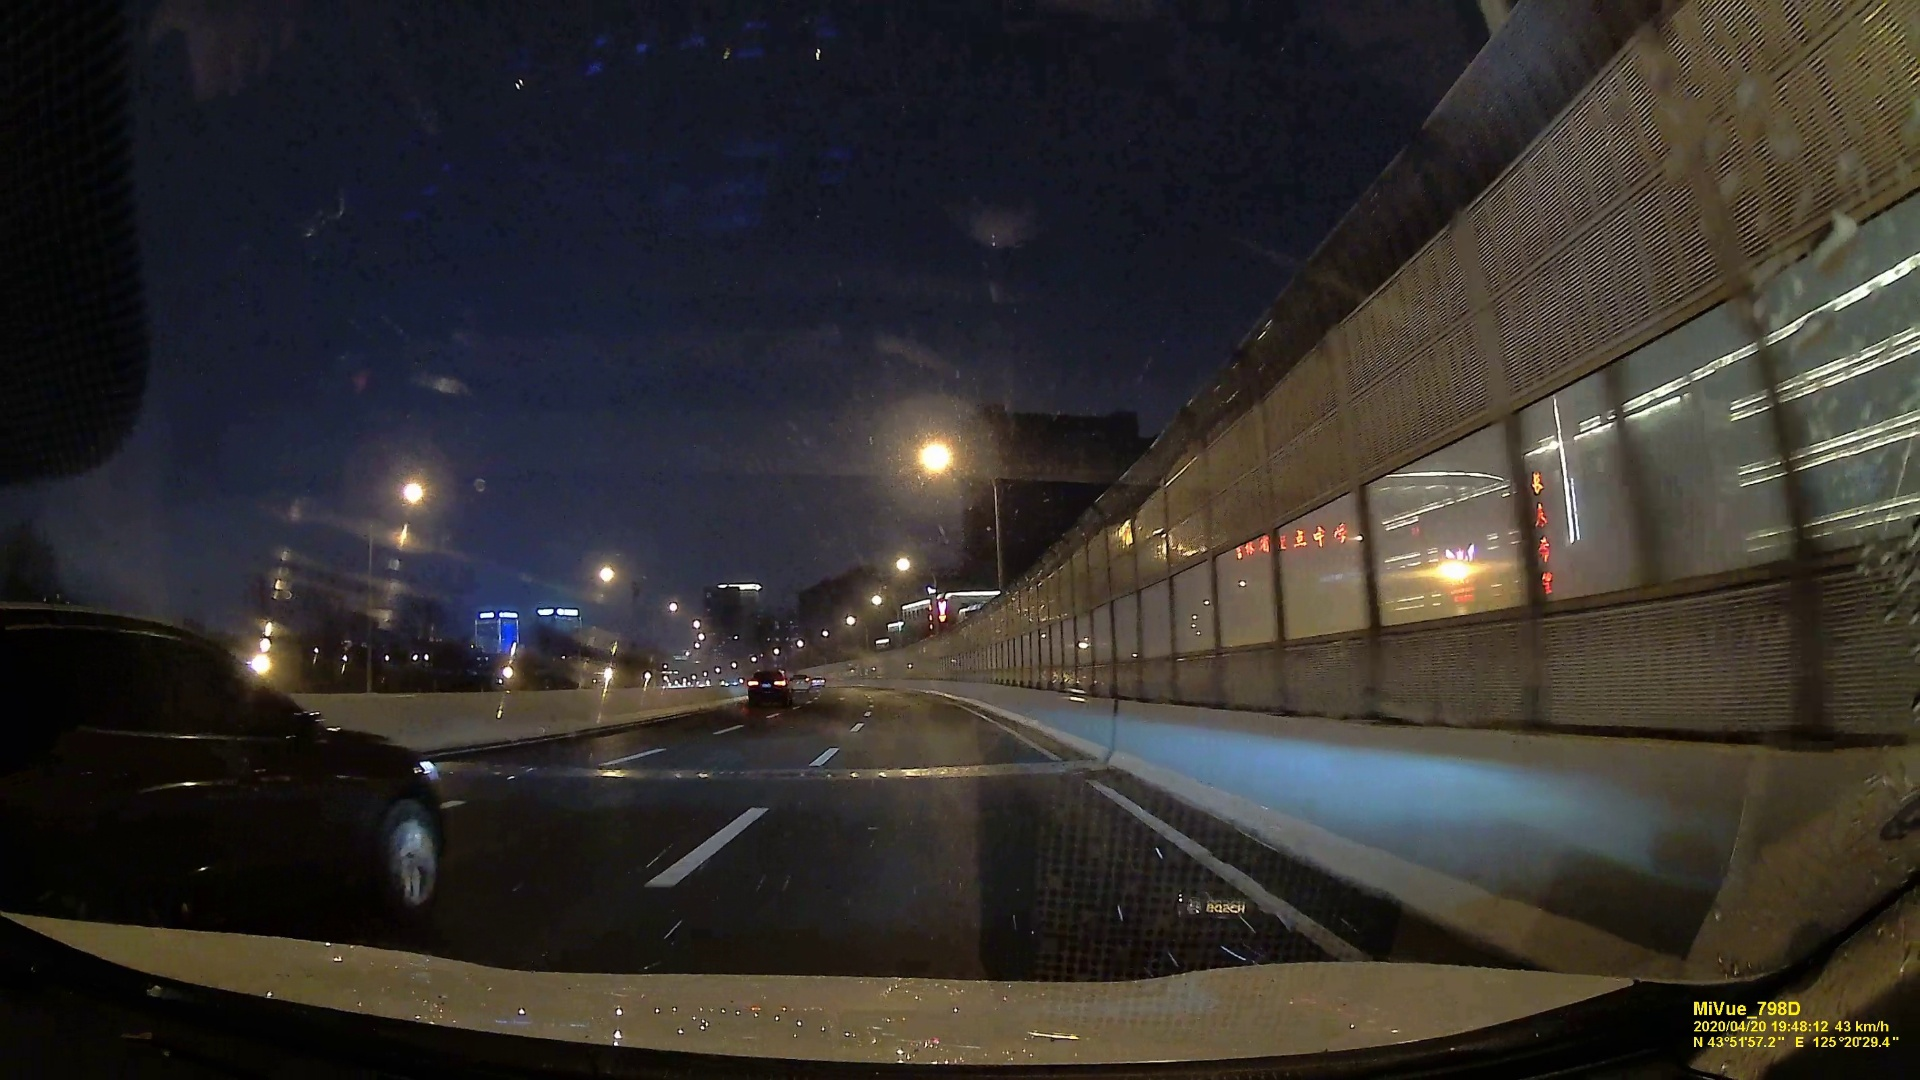vehicle: (1, 605, 444, 939), (746, 669, 793, 705)
